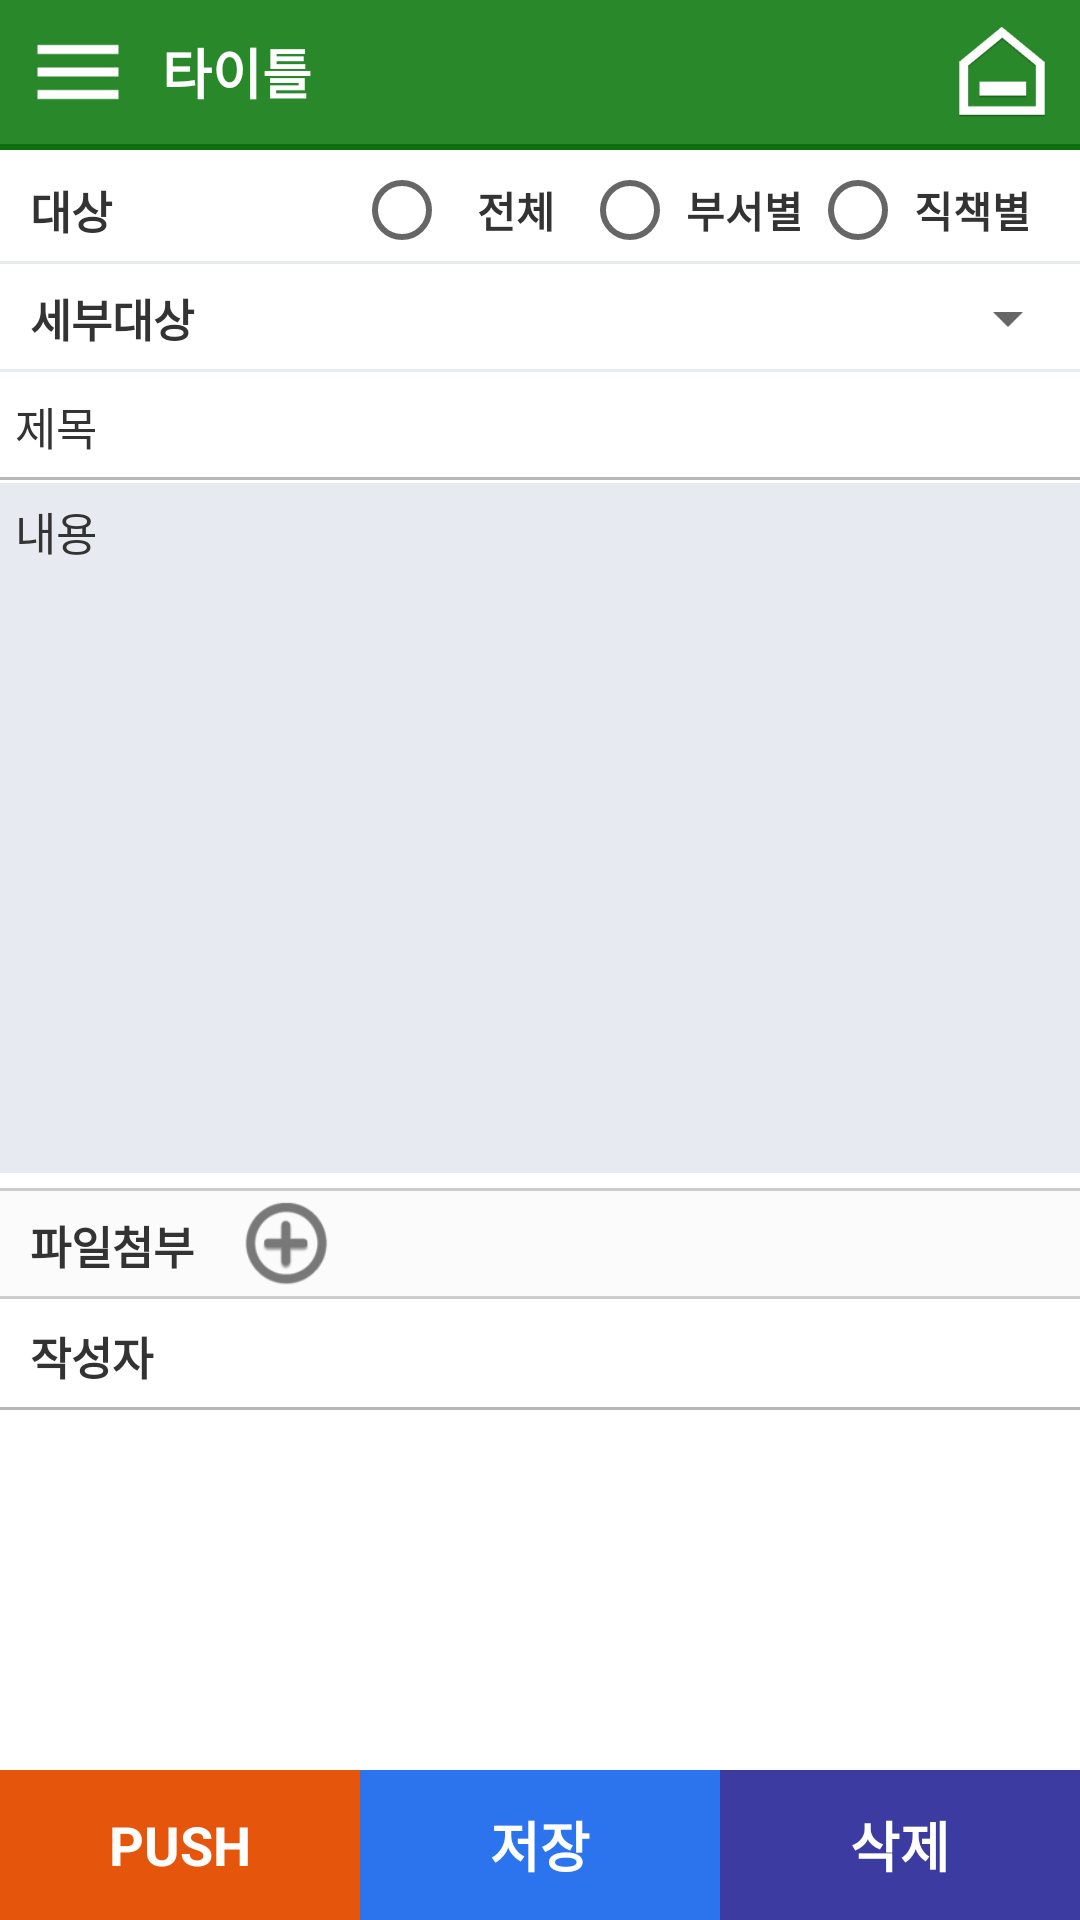

Icons on this 1080*1920 Android screen, each with the point to tap as point (x, y):
add: point (286, 1243)
menu: point (78, 72)
top home: point (1002, 71)
